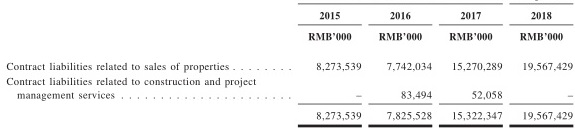column: (6, 1, 257, 128), (518, 1, 573, 127), (309, 1, 363, 128), (449, 1, 502, 128), (380, 1, 431, 128)
row: (1, 59, 575, 74), (1, 109, 575, 122), (1, 10, 575, 22), (1, 30, 575, 42), (1, 77, 575, 89), (1, 91, 575, 102)
